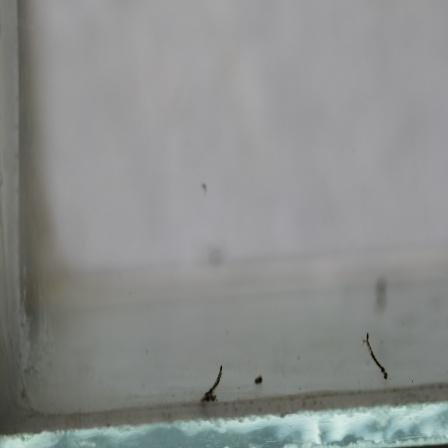Jentik-Nyamuk: (362, 332, 390, 380), (195, 363, 228, 403)
